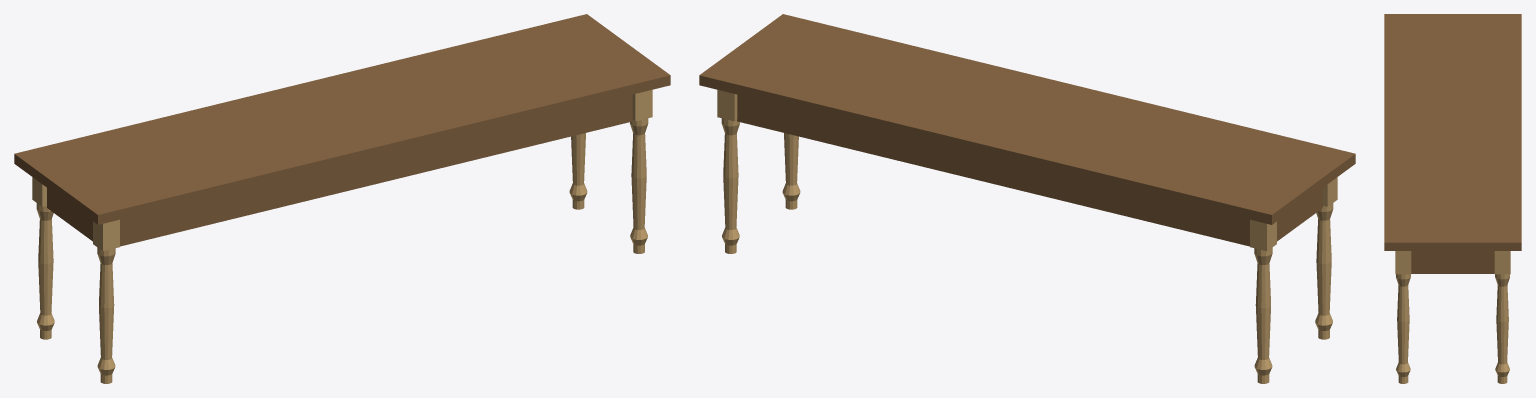
Rendered from FET-DBN-std.glb.
The picture shows the model from 3 angles, left to right: view 1: azimuth 30°, elevation 25°; view 2: azimuth 150°, elevation 25°; view 3: azimuth 270°, elevation 25°; orthographic projection. The views are drawn at different scales.
Visible parts, largest first — view 1: top:pbr, apron-f:pbr, leg-fl:pbr, leg-fr:pbr, leg-bl:pbr, leg-br:pbr, apron-l:pbr; view 2: top:pbr, apron-b:pbr, leg-bl:pbr, leg-br:pbr, leg-fl:pbr, leg-fr:pbr, apron-l:pbr; view 3: top:pbr, apron-r:pbr, leg-fr:pbr, leg-br:pbr.
Boxes of the visible parts, x1,y1,x2,y2 form: top:pbr: (14, 14, 670, 224); apron-f:pbr: (120, 94, 632, 246); leg-fl:pbr: (93, 219, 119, 383); leg-fr:pbr: (630, 89, 652, 253); leg-bl:pbr: (32, 177, 54, 339); leg-br:pbr: (569, 133, 587, 209); apron-l:pbr: (47, 188, 92, 241); top:pbr: (699, 14, 1355, 224); apron-b:pbr: (737, 94, 1249, 246); leg-bl:pbr: (1250, 219, 1276, 383); leg-br:pbr: (717, 89, 739, 253); leg-fl:pbr: (1315, 177, 1337, 339); leg-fr:pbr: (782, 133, 800, 209); apron-l:pbr: (1277, 188, 1322, 241); top:pbr: (1384, 14, 1521, 250); apron-r:pbr: (1411, 251, 1494, 273); leg-fr:pbr: (1395, 251, 1411, 383); leg-br:pbr: (1494, 251, 1510, 383).
Bounding box in the file's own units: 1.5 × 0.45 × 0.38.
